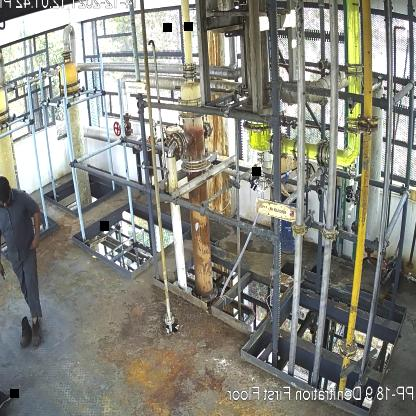shoes: (18, 316, 31, 350), (31, 320, 43, 348)
